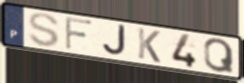4: (171, 32, 198, 69)
F: (64, 15, 95, 52)
J: (101, 23, 128, 58)
K: (136, 26, 162, 65)
Q: (202, 37, 236, 75)
S: (27, 12, 62, 49)
